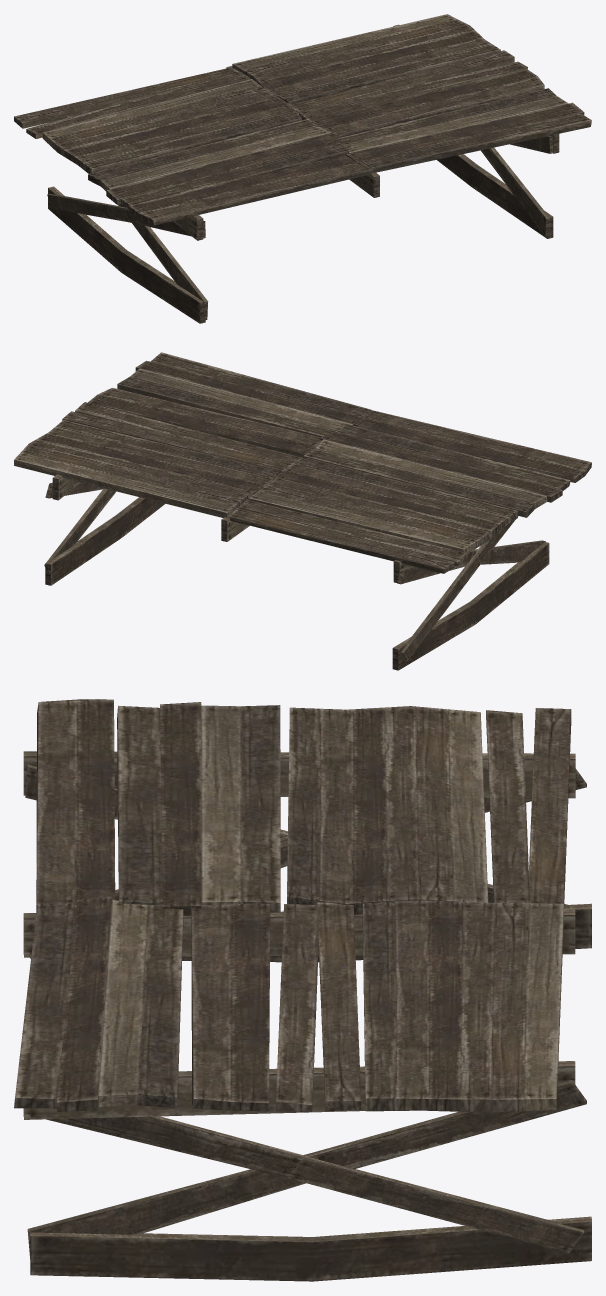
Rendered from eso_gu3_wooddocks5-transformed.glb.
The picture shows the model from 3 angles, top to bottom: view 1: azimuth 30°, elevation 25°; view 2: azimuth 150°, elevation 25°; view 3: azimuth 270°, elevation 25°; orthographic projection. The views are drawn at different scales.
Visible parts, largest first — view 1: default; view 2: default; view 3: default.
Part boxes in pixels (left/top/right/bottom): default: left=14, top=14, right=591, bottom=323; default: left=14, top=352, right=591, bottom=670; default: left=14, top=699, right=591, bottom=1281.
Size of the model in its own units: 14.91 by 3.79 by 9.05.
Materials: 1 (1 with a texture image).
